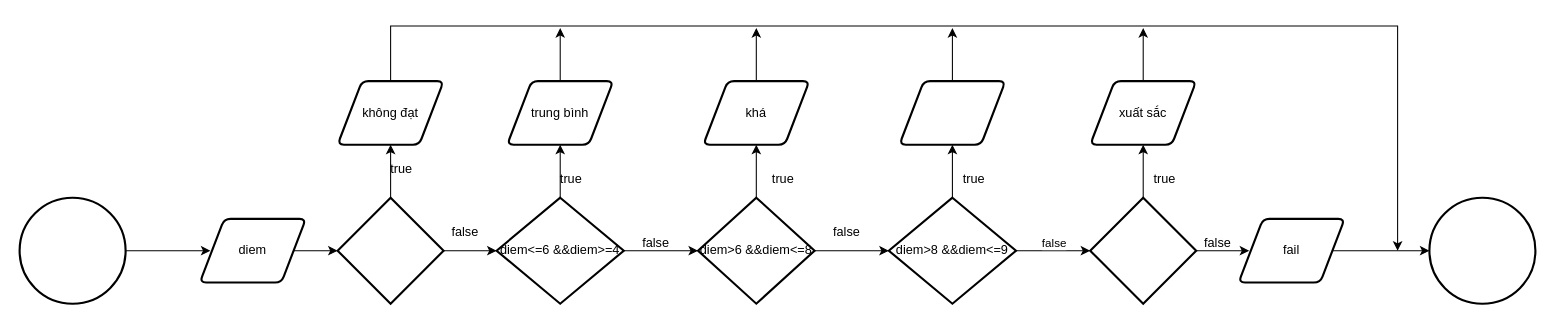
Some shapes in this 1554 by 323 pixel diagram are drawn without their labels. The shapes that lost their labels are listed below. From the top down, each one's centre as x and y in pixels, then its label:
At [952,112]: "giỏi".
At [72,250]: "Start".
At [390,250]: "diem<4".
At [1143,250]: "diem>9 &&diem<=10".
At [1482,250]: "End".
